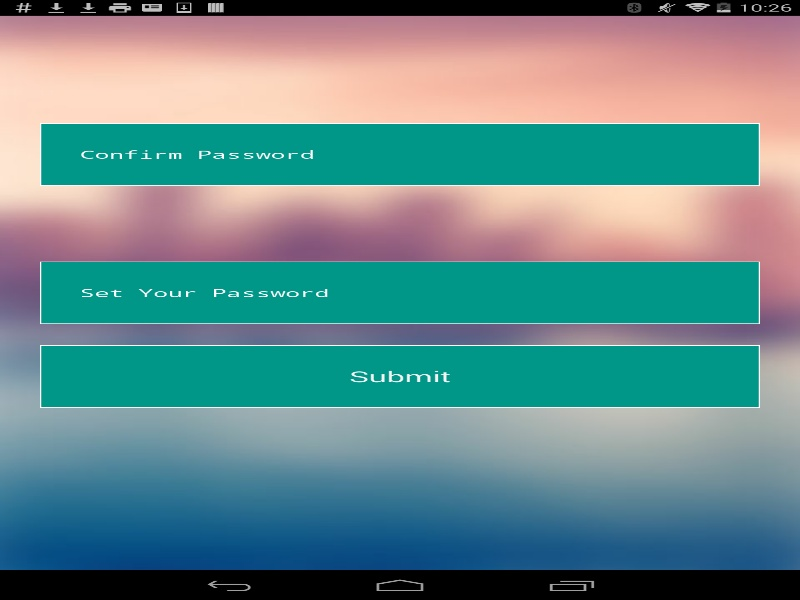Button: (40, 345, 760, 407)
Input: (40, 261, 760, 324), (40, 123, 760, 185)
